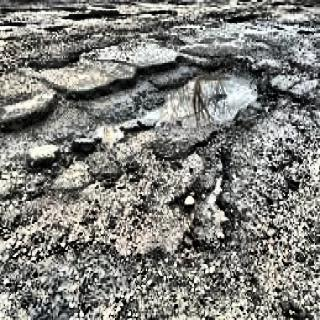pothole: (140, 50, 276, 134), (56, 5, 125, 22)
